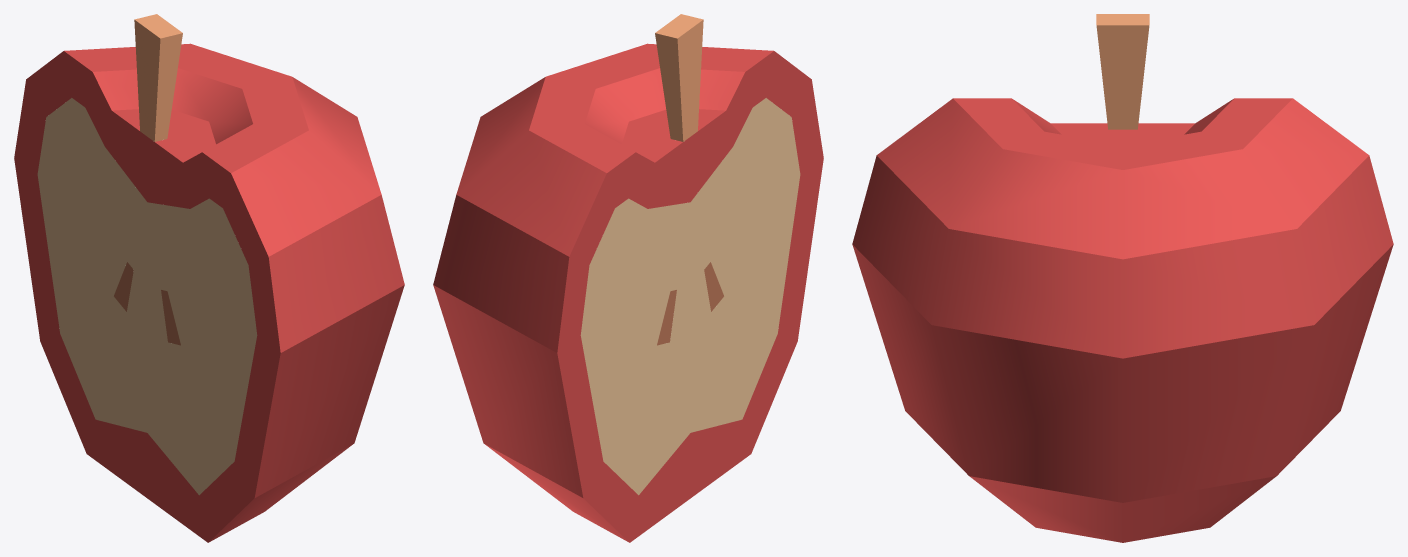
File: apple.glb
3 views of the same model, side by side, from view 1: azimuth 30°, elevation 25°; view 2: azimuth 150°, elevation 25°; view 3: azimuth 270°, elevation 25° (orthographic).
Parts seen in each view (by area): view 1: appleHalf; view 2: appleHalf; view 3: appleHalf.
Part boxes in pixels (x1,y1,x2,y2): appleHalf: [14, 14, 404, 542]; appleHalf: [433, 14, 823, 542]; appleHalf: [852, 14, 1393, 542].
Size of the model in its own units: 0.0982 by 0.1908 by 0.1963.
